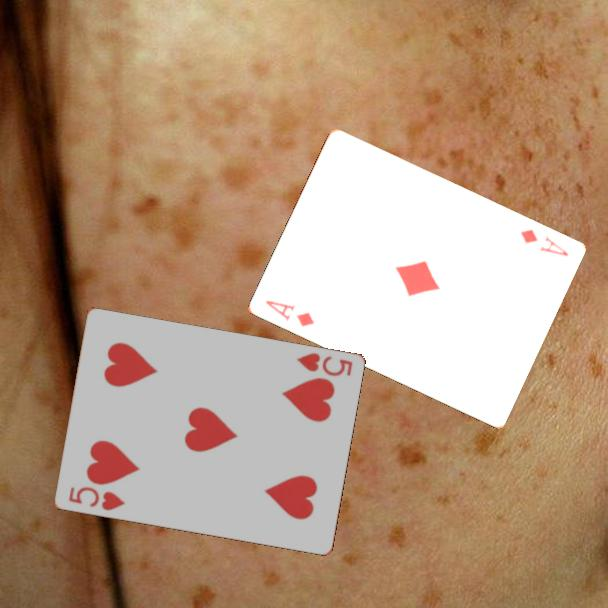d01: (262, 297, 317, 330), (516, 226, 571, 259)
h05: (65, 483, 128, 514), (293, 349, 355, 379)
